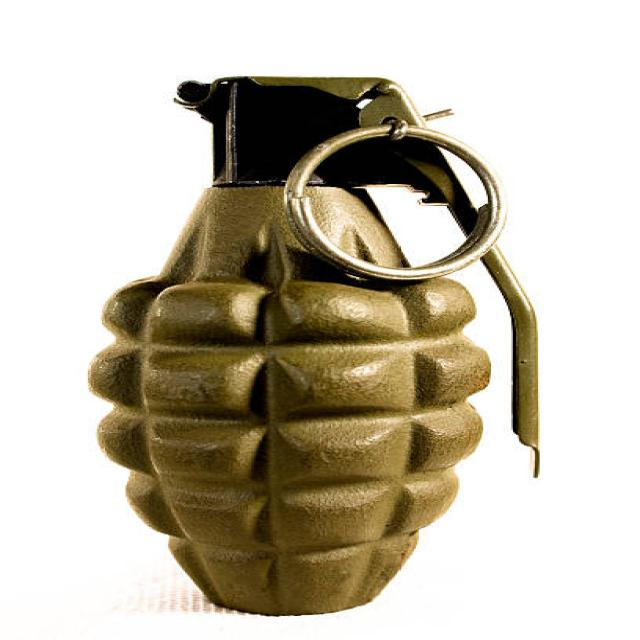grenade: (80, 62, 555, 618)
